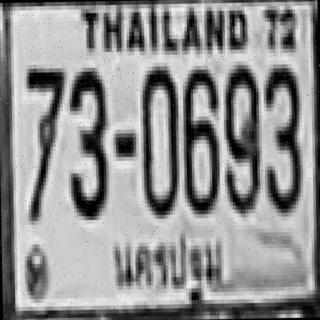N00: (139, 62, 177, 215)
N03: (66, 67, 107, 216), (263, 64, 301, 209)
N06: (180, 65, 218, 210)
N07: (24, 66, 64, 219)
N09: (222, 60, 258, 210)
P28: (108, 219, 230, 314)
